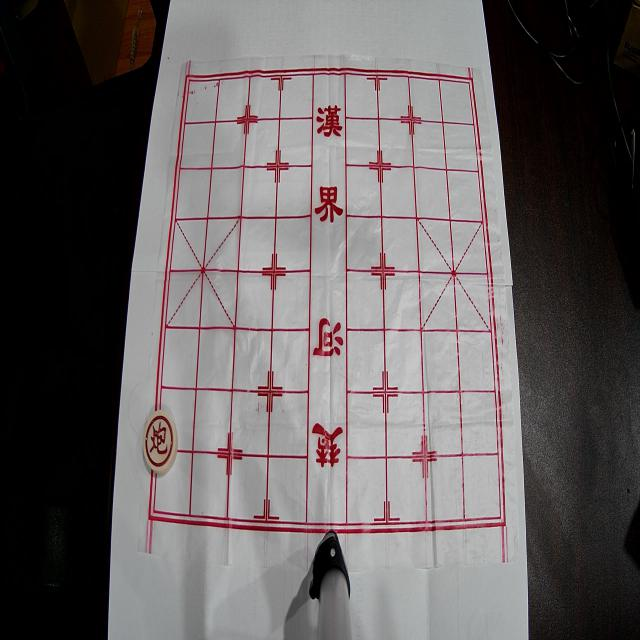red-cannon: (143, 411, 178, 474)
